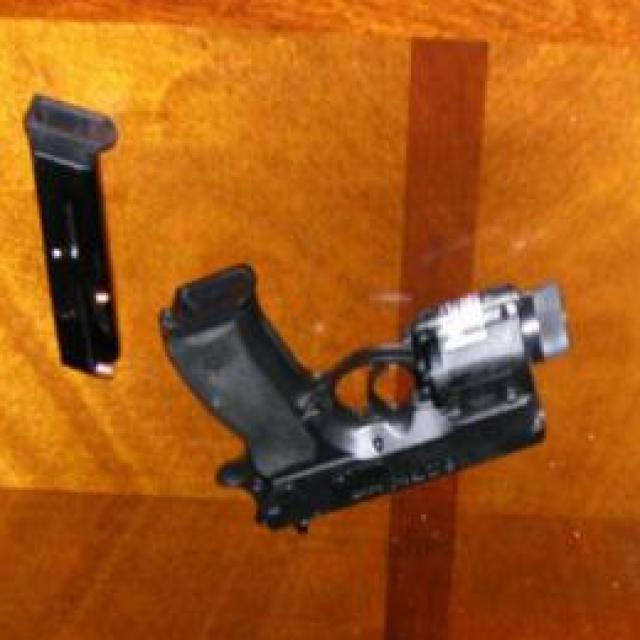pistol: (156, 264, 578, 536)
